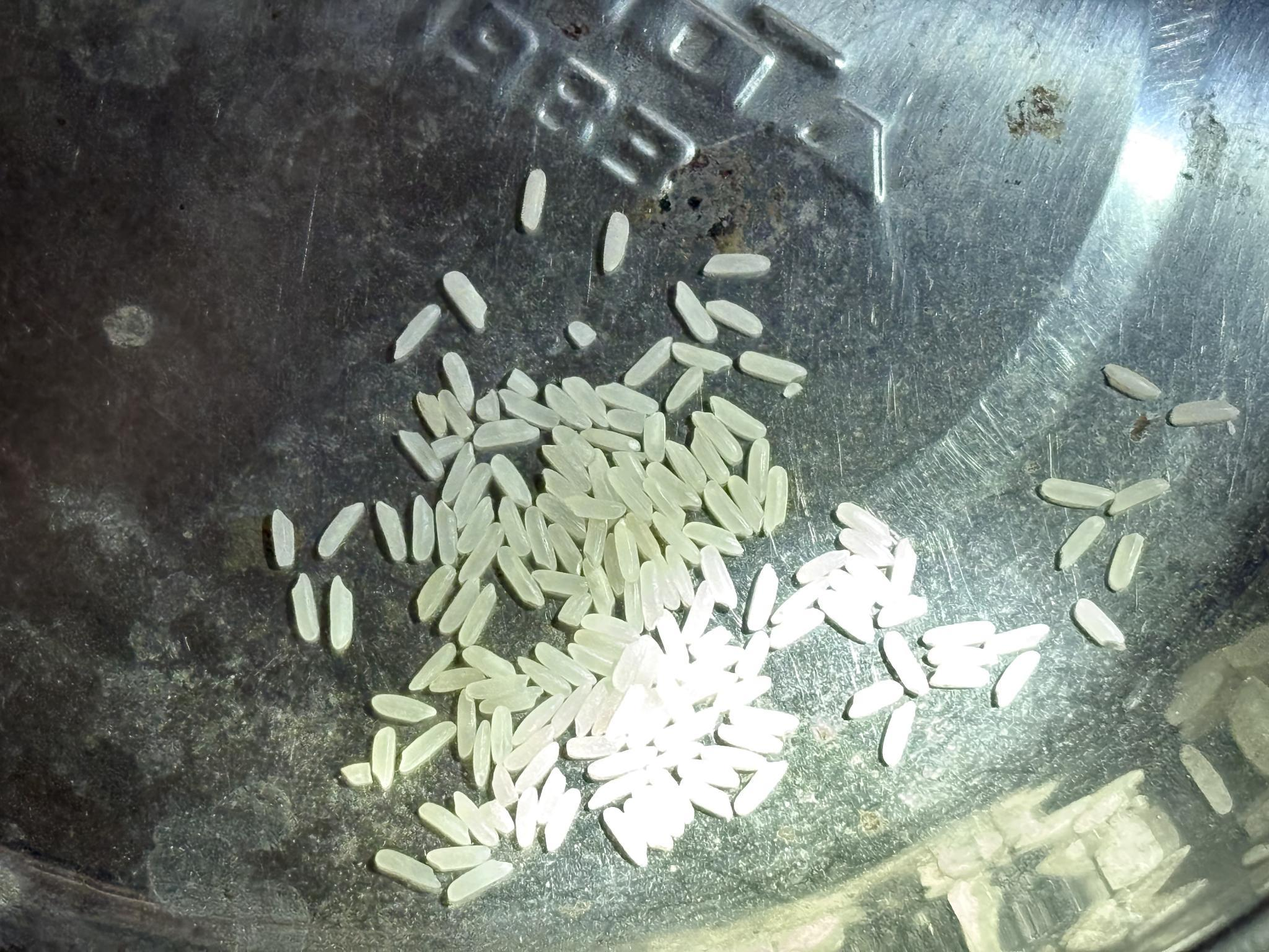Rice-th-y-nh: (539, 465, 624, 530), (446, 853, 514, 909), (374, 842, 443, 897), (816, 587, 876, 648), (398, 717, 457, 777), (653, 702, 721, 754), (733, 757, 788, 819), (497, 383, 561, 436), (881, 629, 929, 698), (771, 571, 830, 627), (738, 563, 785, 633), (588, 739, 658, 786), (650, 654, 696, 725), (600, 805, 651, 869), (845, 551, 901, 609), (495, 544, 544, 610), (534, 637, 595, 690), (701, 478, 753, 540), (587, 763, 649, 815), (652, 608, 694, 684), (458, 521, 507, 586), (570, 674, 618, 740), (582, 448, 626, 520), (1169, 389, 1239, 434), (983, 616, 1050, 663), (646, 457, 701, 514), (835, 496, 894, 549), (449, 461, 494, 530), (876, 699, 921, 768), (605, 464, 655, 526), (692, 407, 744, 466), (923, 612, 996, 654), (316, 499, 367, 559), (473, 411, 541, 456), (648, 764, 698, 825), (683, 513, 745, 562), (442, 268, 490, 331), (630, 783, 686, 837), (708, 392, 766, 444), (768, 602, 826, 654), (696, 543, 741, 610), (846, 673, 905, 724), (673, 279, 719, 344), (595, 376, 660, 422), (993, 648, 1042, 709), (457, 583, 502, 649), (512, 691, 564, 748), (547, 680, 594, 743), (629, 560, 670, 632), (652, 509, 702, 568), (392, 302, 441, 362), (704, 293, 764, 342), (703, 243, 771, 286), (1073, 596, 1126, 651), (677, 580, 721, 646), (426, 835, 492, 879), (519, 505, 562, 572), (362, 726, 406, 791), (608, 633, 654, 695), (452, 789, 499, 849), (564, 725, 628, 769), (401, 495, 443, 562), (535, 488, 587, 542), (624, 334, 674, 390), (562, 373, 611, 430), (604, 682, 649, 744), (679, 661, 738, 708), (517, 651, 571, 702), (542, 440, 592, 495), (714, 670, 773, 716), (738, 437, 779, 503), (437, 576, 482, 636), (757, 465, 796, 534), (688, 426, 732, 487), (929, 653, 990, 697), (488, 452, 535, 509), (478, 679, 543, 720), (413, 563, 458, 622), (580, 606, 639, 651), (622, 800, 673, 852), (408, 640, 457, 694), (397, 426, 444, 482), (514, 740, 561, 796), (736, 349, 807, 386), (794, 542, 851, 588), (462, 639, 519, 685), (663, 437, 708, 495), (494, 495, 534, 560), (438, 442, 479, 505), (543, 381, 592, 433), (827, 566, 876, 618), (1059, 514, 1107, 567), (371, 500, 412, 562), (725, 474, 767, 534), (417, 802, 473, 847), (1041, 476, 1113, 511), (463, 721, 500, 789), (448, 690, 485, 758), (428, 500, 466, 566), (883, 538, 924, 599), (543, 789, 582, 853), (735, 54, 778, 112), (875, 588, 929, 634), (439, 350, 479, 412), (428, 659, 487, 701), (456, 496, 497, 556), (660, 545, 699, 608), (515, 168, 554, 231), (730, 703, 800, 738), (682, 774, 735, 820), (369, 690, 437, 725), (717, 721, 783, 757), (623, 511, 666, 566), (608, 522, 646, 584), (625, 700, 670, 752), (598, 210, 635, 273), (643, 475, 686, 529), (1107, 531, 1145, 592), (507, 787, 545, 848), (532, 562, 588, 603), (546, 521, 586, 578), (326, 577, 357, 650), (531, 767, 570, 825), (567, 636, 617, 681), (594, 534, 630, 596), (1110, 477, 1169, 514), (484, 705, 520, 765), (838, 529, 893, 568), (678, 757, 741, 791), (1104, 363, 1160, 401), (290, 573, 321, 641), (266, 508, 301, 568), (436, 388, 476, 440), (551, 422, 595, 469), (670, 341, 732, 374), (701, 742, 763, 774), (656, 734, 703, 775), (637, 411, 673, 464), (735, 628, 771, 681), (582, 425, 643, 456), (665, 365, 705, 412), (583, 563, 617, 617), (414, 390, 451, 439), (699, 638, 745, 674), (686, 624, 733, 659), (488, 764, 522, 808), (606, 403, 646, 439), (612, 449, 648, 488), (556, 590, 593, 627), (599, 150, 639, 184), (480, 797, 515, 834), (340, 758, 375, 791), (473, 388, 504, 424), (431, 432, 466, 461), (507, 368, 539, 397), (567, 320, 598, 348), (783, 381, 803, 399)
